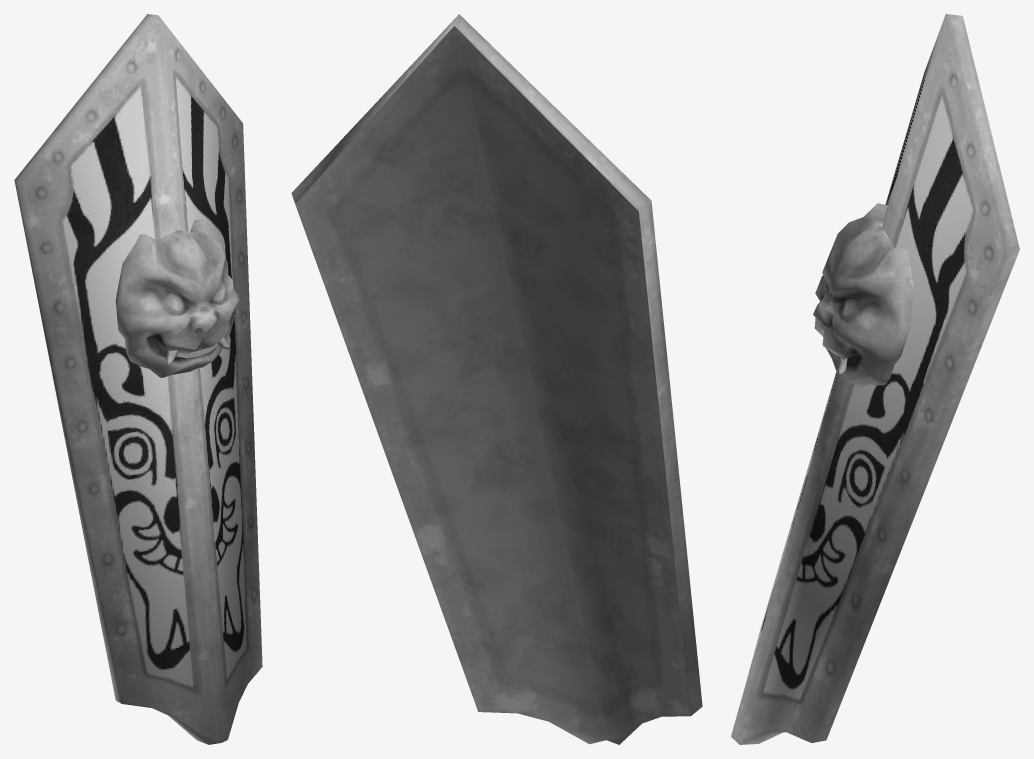
The model's file is shield-ironshields.glb.
3 views of the same model, side by side, from view 1: azimuth 30°, elevation 25°; view 2: azimuth 150°, elevation 25°; view 3: azimuth 270°, elevation 25° (orthographic). The views are drawn at different scales.
Size of the model in its own units: 0.7631 by 1.84 by 0.6462.
Materials: 1 (1 with a texture image).
